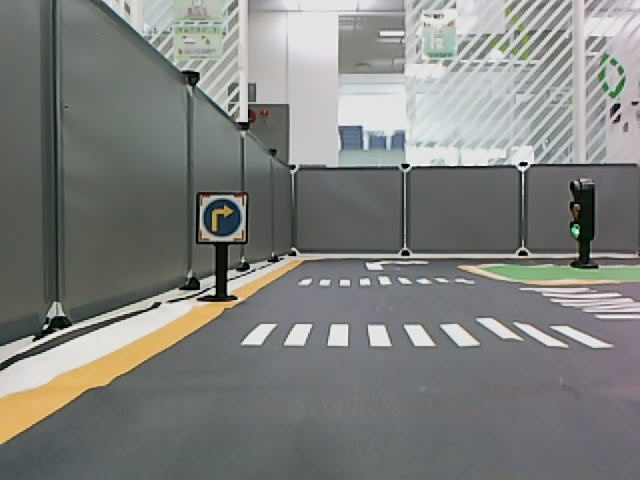crosswalk: (237, 318, 617, 351), (296, 274, 475, 290)
right: (202, 197, 243, 238)
